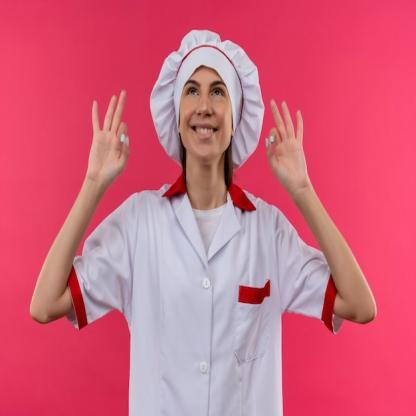ok: (85, 86, 132, 186), (262, 96, 310, 191)
